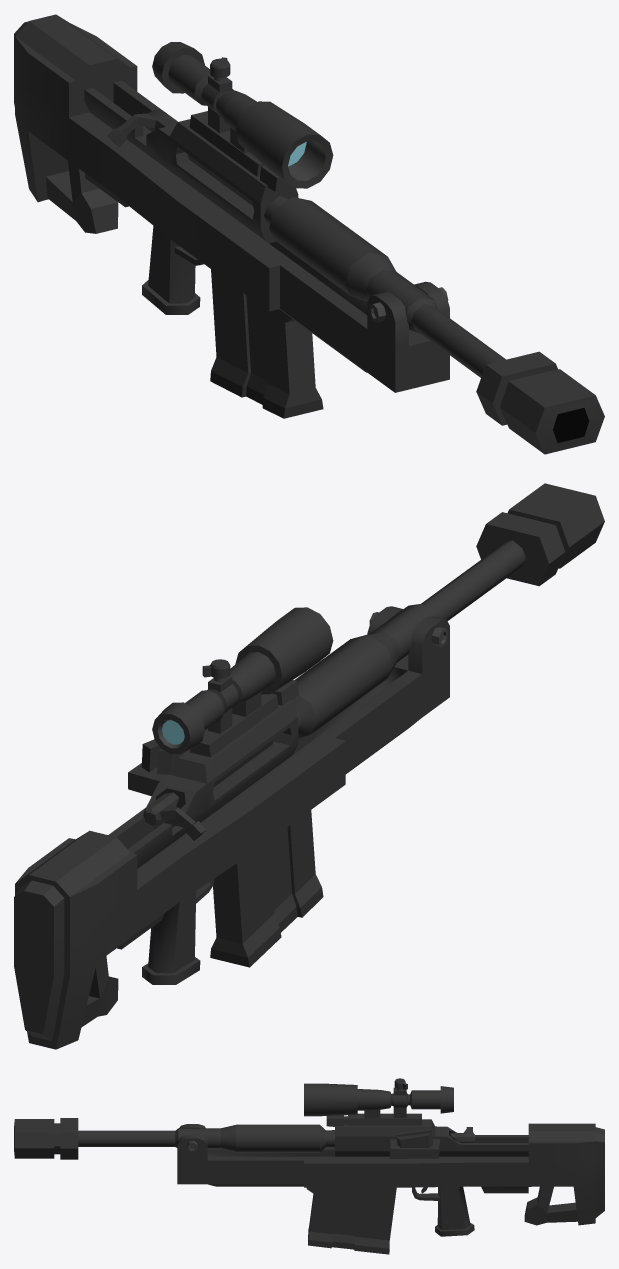
Rendered from Sniper.fbx.
The picture shows the model from 3 angles, top to bottom: view 1: azimuth 30°, elevation 25°; view 2: azimuth 150°, elevation 25°; view 3: azimuth 270°, elevation 25°; orthographic projection. The views are drawn at different scales.
Parts seen in each view (by area): view 1: Sniper, Sniper.Magazine, Sniper.Bolt; view 2: Sniper, Sniper.Magazine, Sniper.Bolt, Anti-Material Rifle.007; view 3: Sniper, Sniper.Magazine, Anti-Material Rifle.007, Sniper.Bolt.
Boxes of the visible parts, x1,y1,x2,y2 form: Sniper: (14,14,604,454); Sniper.Magazine: (210,269,323,418); Sniper.Bolt: (107,109,253,205); Sniper: (14,483,604,1049); Sniper.Magazine: (210,810,323,967); Sniper.Bolt: (143,739,273,840); Anti-Material Rifle.007: (141,739,186,774); Sniper: (14,1078,604,1236); Sniper.Magazine: (306,1187,396,1254); Anti-Material Rifle.007: (396,1127,432,1147); Sniper.Bolt: (450,1127,475,1142).
Bounding box in the file's own units: 0.1858 × 0.5233 × 1.66.
